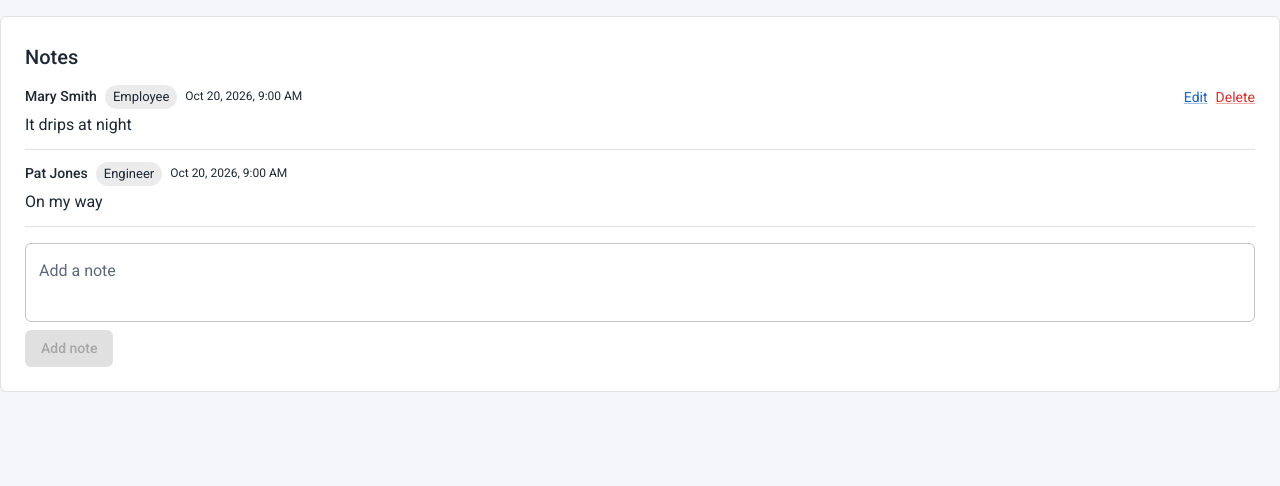
Test case: TicketNotes › adds a note, and the button waits for some text
The width and height of the screenshot is (1280, 486).
Expected: the button "Add note" is disabled, [25,330,113,366]
Type "Still dripping" into the text box labelled "Add a note" at (640, 282), box [39,260,1241,306]
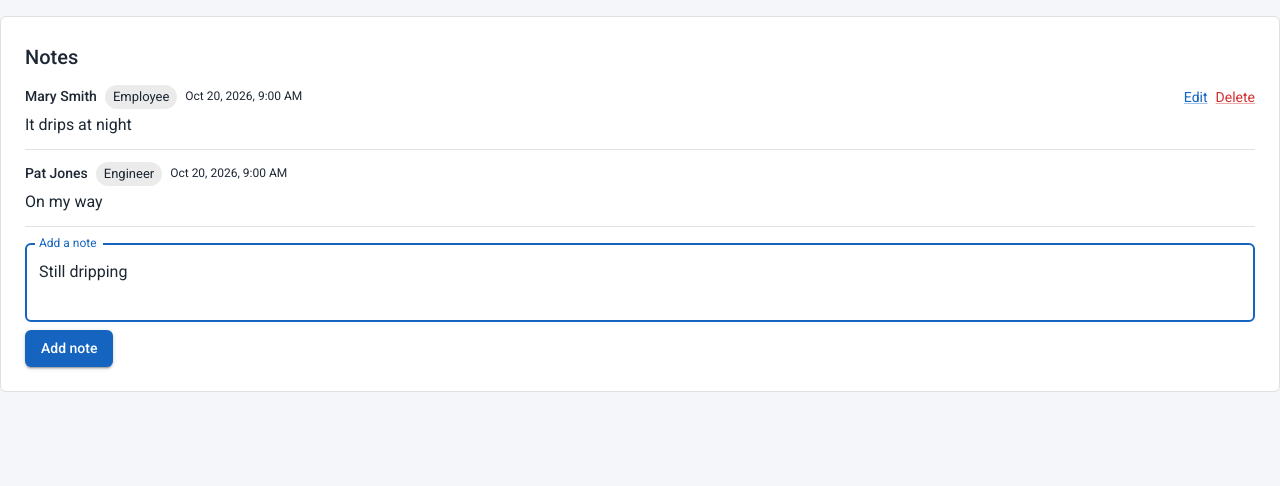
Click the button "Add note" at (69, 348), box [25,330,113,366]
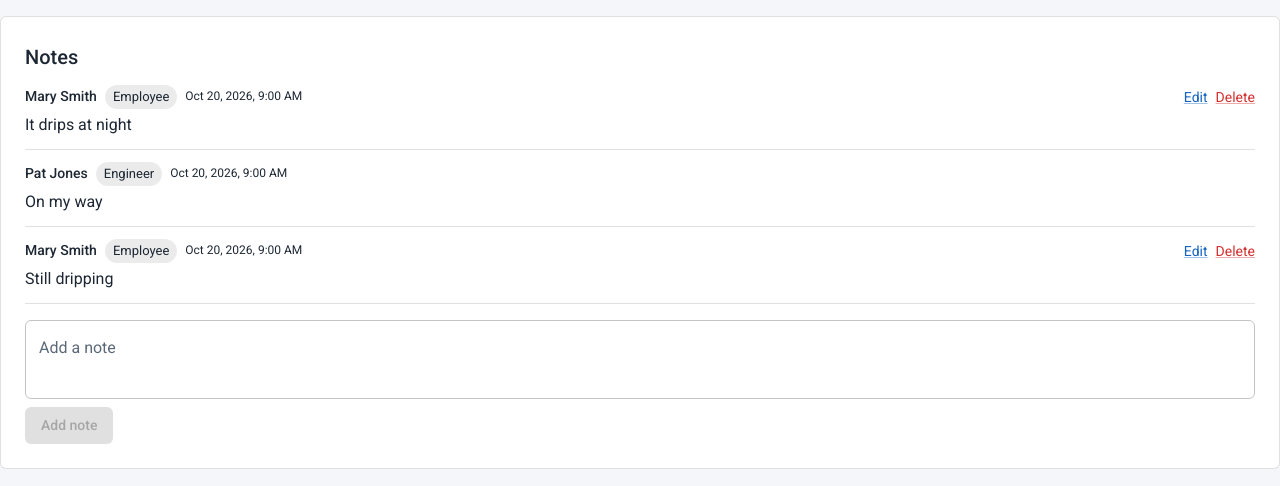
Result: the text "Still dripping" is shown at [25,269,113,288]
Result: the text box labelled "Add a note" is empty at [39,336,1241,382]
